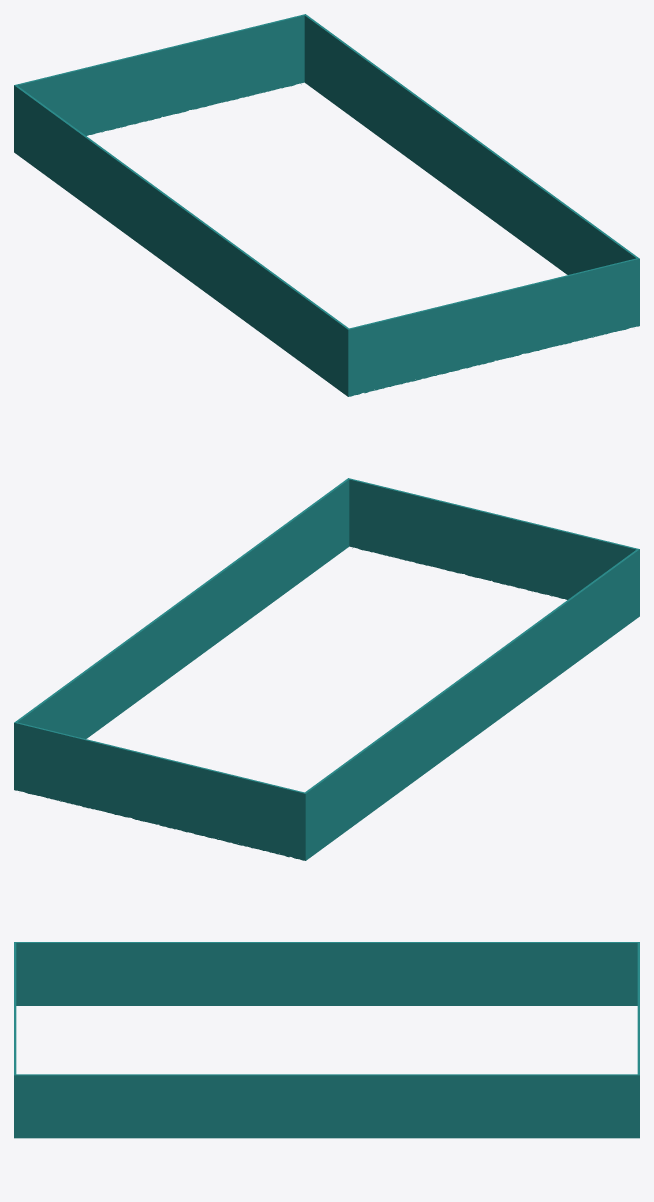
File: akvariemesh.FBX
3 views of the same model, one above another, from view 1: azimuth 30°, elevation 25°; view 2: azimuth 150°, elevation 25°; view 3: azimuth 270°, elevation 25° (orthographic). The views are drawn at different scales.
Parts seen in each view (by area): view 1: akvarieboks; view 2: akvarieboks; view 3: akvarieboks.
Part boxes in pixels (x1,y1,x2,y2): akvarieboks: (14,14,639,396); akvarieboks: (14,478,639,860); akvarieboks: (14,942,639,1138).
Bounding box in the file's own units: 10.15 × 3.99 × 20.15.
